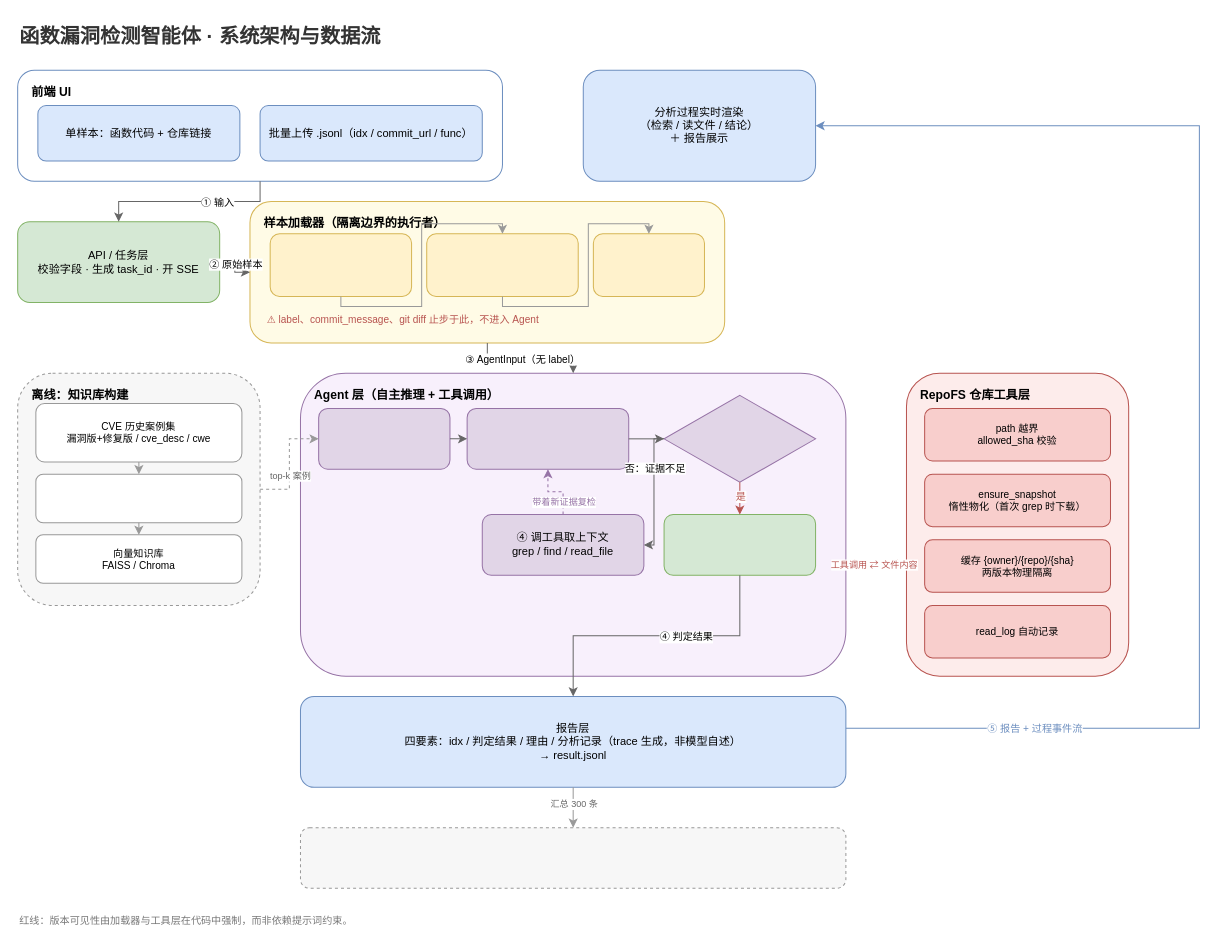
Image size: 1225x949. Some labels were removed from this diagram. The shapes that lost their labels are listed below. From the top down, each one's centre as x and y in pixels, then its label:
At (x=340, y=264): "① 字段校验".
At (x=502, y=264): "② 版本解析 label 1 → C^ 0 → C".
At (x=648, y=264): "③ 裁剪 AgentInput".
At (x=384, y=438): "① RAG 检索 相似历史案例".
At (x=547, y=438): "② 初步分析 形成假设 + 证据缺口".
At (x=739, y=438): "③ 证据 是否充分？".
At (x=138, y=498): "清洗 / 向量化".
At (x=739, y=544): "⑤ 结构化判定 prediction + reason".
At (x=572, y=857): "评测（离线）evaluate.py 成对统计：P-C / P-V / P-B / P-R".
